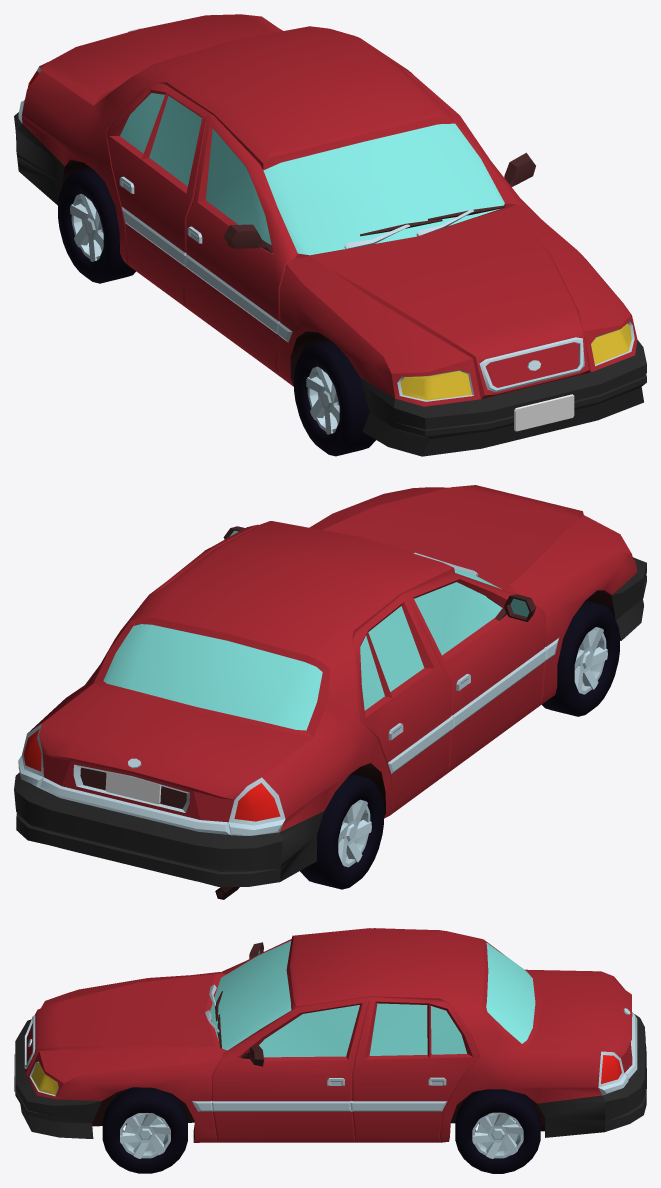
The model's file is Car_Sedan_Parted.fbx.
3 views of the same model, one above another, from view 1: azimuth 30°, elevation 25°; view 2: azimuth 150°, elevation 25°; view 3: azimuth 270°, elevation 25° (orthographic). The views are drawn at different scales.
Visible parts, largest first — view 1: SM_Veh_Car_Sedan_01, SM_Veh_Car_Sedan_Glass.004, SM_Veh_Car_Sedan_01.003, SM_Veh_Car_Sedan_Wheel_fl, SM_Veh_Car_Sedan_Wheel_rl, SM_Veh_Car_Sedan_Glass.005, SM_Veh_Car_Sedan_Glass.006, SM_Veh_Car_Sedan_Plates, SM_Veh_Car_Sedan_Glass.007, SM_Veh_Car_Sedan_01.005, SM_Veh_Car_Sedan_01.002, SM_Veh_Car_Sedan_01.001 (+1 smaller); view 2: SM_Veh_Car_Sedan_01, SM_Veh_Car_Sedan_Glass, SM_Veh_Car_Sedan_01.004, SM_Veh_Car_Sedan_Wheel_rl, SM_Veh_Car_Sedan_Wheel_fl, SM_Veh_Car_Sedan_Glass.005, SM_Veh_Car_Sedan_Glass.006, SM_Veh_Car_Sedan_01.003, SM_Veh_Car_Sedan_Plates.001, SM_Veh_Car_Sedan_Glass.007, SM_Veh_Car_Sedan_01.002; view 3: SM_Veh_Car_Sedan_01, SM_Veh_Car_Sedan_Wheel_fl.001, SM_Veh_Car_Sedan_Wheel_rl.001, SM_Veh_Car_Sedan_Glass.004, SM_Veh_Car_Sedan_Glass.003, SM_Veh_Car_Sedan_01.003, SM_Veh_Car_Sedan_Glass, SM_Veh_Car_Sedan_Glass.002, SM_Veh_Car_Sedan_01.004, SM_Veh_Car_Sedan_Glass.001.
Part boxes in pixels (box(x1,y1,x2,y2)): SM_Veh_Car_Sedan_01: box(15, 14, 637, 406); SM_Veh_Car_Sedan_Glass.004: box(263, 123, 504, 255); SM_Veh_Car_Sedan_01.003: box(360, 340, 646, 456); SM_Veh_Car_Sedan_Wheel_fl: box(294, 340, 375, 456); SM_Veh_Car_Sedan_Wheel_rl: box(58, 168, 135, 283); SM_Veh_Car_Sedan_Glass.005: box(205, 128, 271, 244); SM_Veh_Car_Sedan_Glass.006: box(149, 96, 201, 186); SM_Veh_Car_Sedan_Plates: box(514, 394, 574, 431); SM_Veh_Car_Sedan_Glass.007: box(120, 93, 164, 153); SM_Veh_Car_Sedan_01.005: box(479, 337, 584, 392); SM_Veh_Car_Sedan_01.002: box(223, 224, 272, 252); SM_Veh_Car_Sedan_01.001: box(504, 152, 535, 186); SM_Veh_Car_Sedan_01: box(18, 485, 637, 899); SM_Veh_Car_Sedan_Glass: box(103, 624, 322, 730); SM_Veh_Car_Sedan_01.004: box(14, 772, 282, 886); SM_Veh_Car_Sedan_Wheel_rl: box(300, 773, 383, 889); SM_Veh_Car_Sedan_Wheel_fl: box(542, 600, 619, 716); SM_Veh_Car_Sedan_Glass.005: box(414, 582, 502, 655); SM_Veh_Car_Sedan_Glass.006: box(368, 606, 424, 691); SM_Veh_Car_Sedan_01.003: box(611, 557, 646, 640); SM_Veh_Car_Sedan_Plates.001: box(105, 772, 161, 804); SM_Veh_Car_Sedan_Glass.007: box(360, 635, 384, 710); SM_Veh_Car_Sedan_01.002: box(495, 594, 535, 621); SM_Veh_Car_Sedan_01: box(25, 928, 637, 1142); SM_Veh_Car_Sedan_Wheel_fl.001: box(102, 1087, 187, 1173); SM_Veh_Car_Sedan_Wheel_rl.001: box(455, 1089, 540, 1173); SM_Veh_Car_Sedan_Glass.004: box(210, 941, 291, 1050); SM_Veh_Car_Sedan_Glass.003: box(259, 1005, 359, 1057); SM_Veh_Car_Sedan_01.003: box(15, 1019, 101, 1138); SM_Veh_Car_Sedan_Glass: box(486, 943, 535, 1043); SM_Veh_Car_Sedan_Glass.002: box(369, 1003, 427, 1055); SM_Veh_Car_Sedan_01.004: box(602, 1013, 646, 1131); SM_Veh_Car_Sedan_Glass.001: box(431, 1006, 466, 1054).
Bounding box in the file's own units: 21.72 × 15.23 × 51.75.
